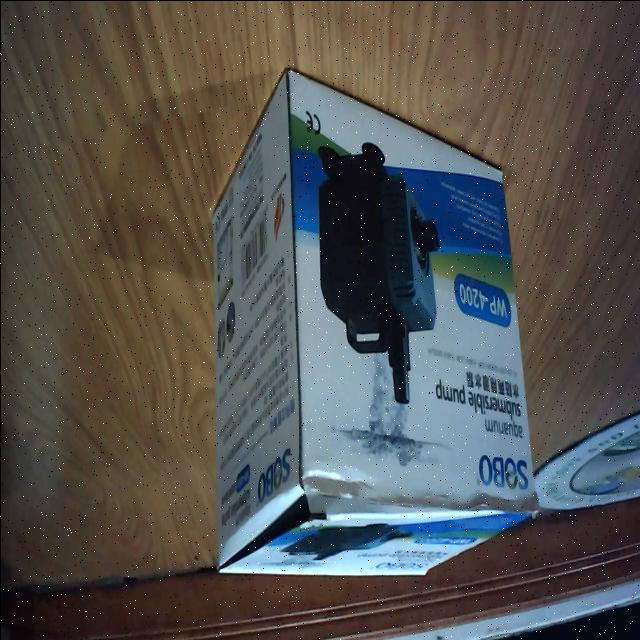SOBO_WP_4200: (216, 61, 540, 585)
